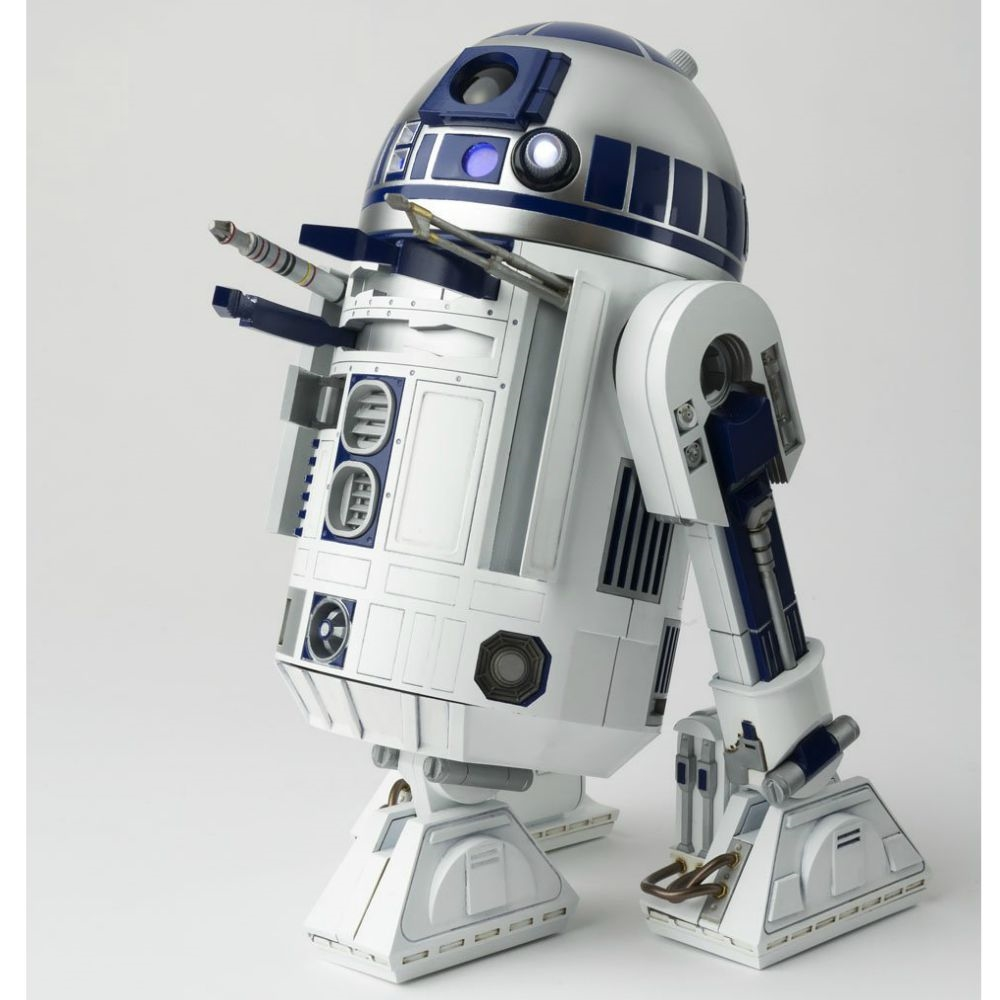r2d2: (279, 18, 928, 981)
